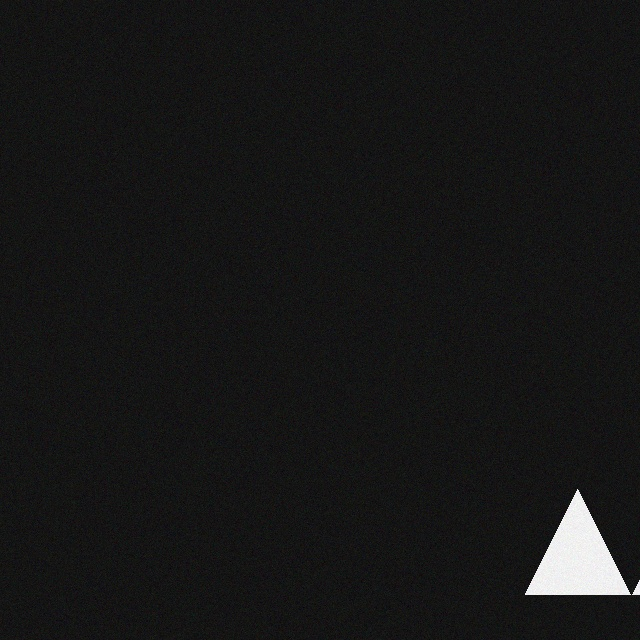triangle: (533, 496, 638, 601)
